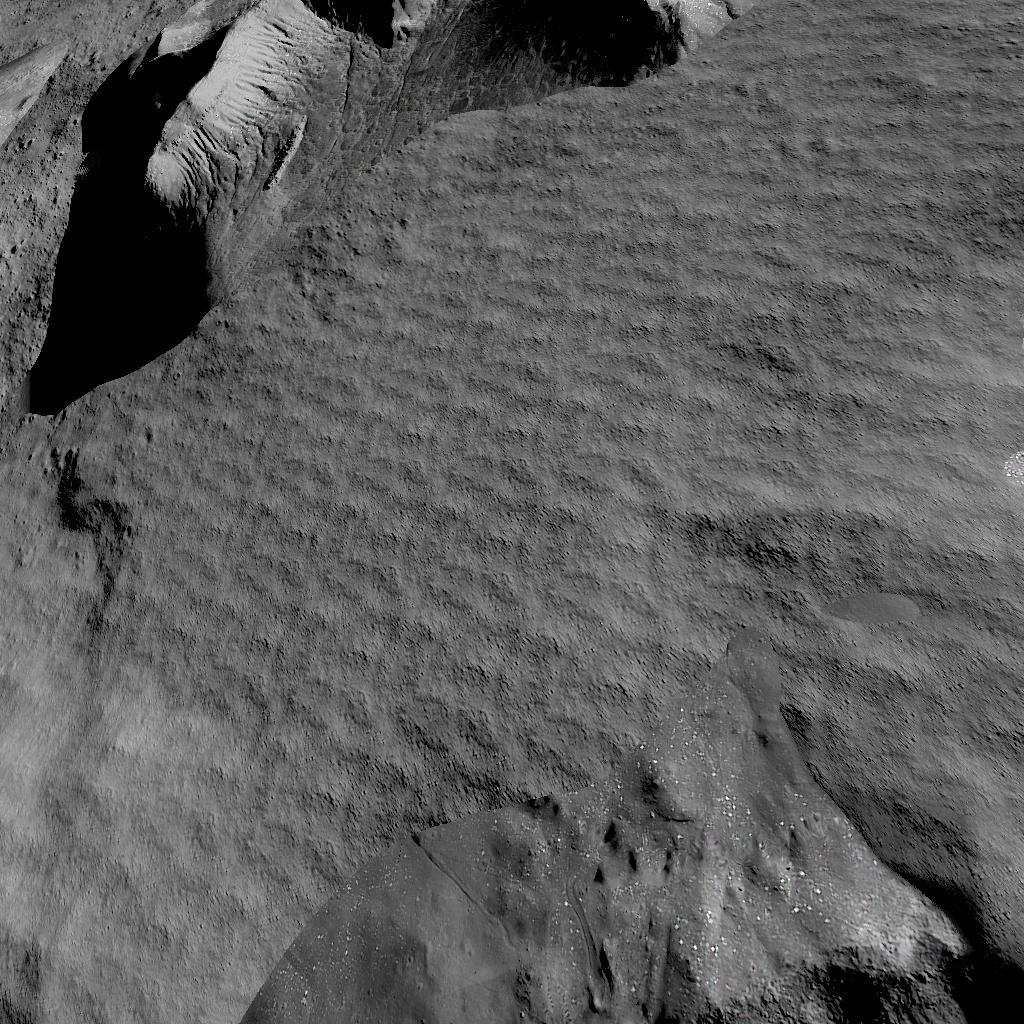Boulders: (24, 0, 750, 418)
Crater: (248, 808, 1024, 1024)
Plan surface: (0, 430, 1024, 795), (766, 0, 1024, 418), (0, 808, 238, 1024)
